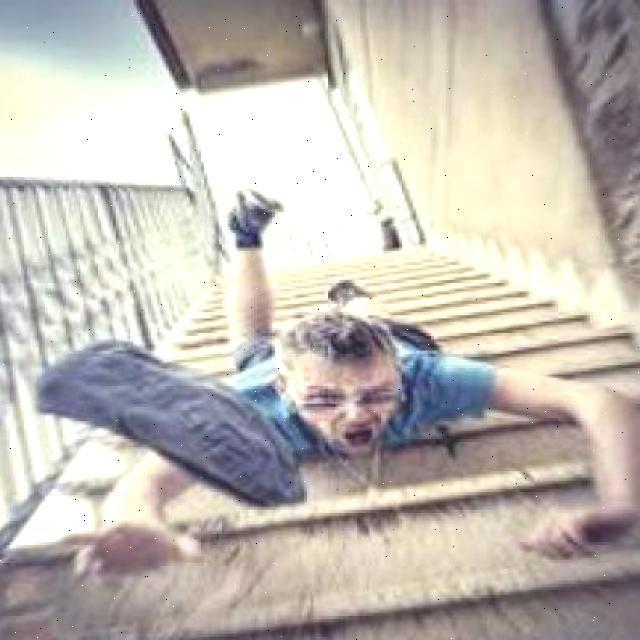stair: (145, 439, 534, 634)
